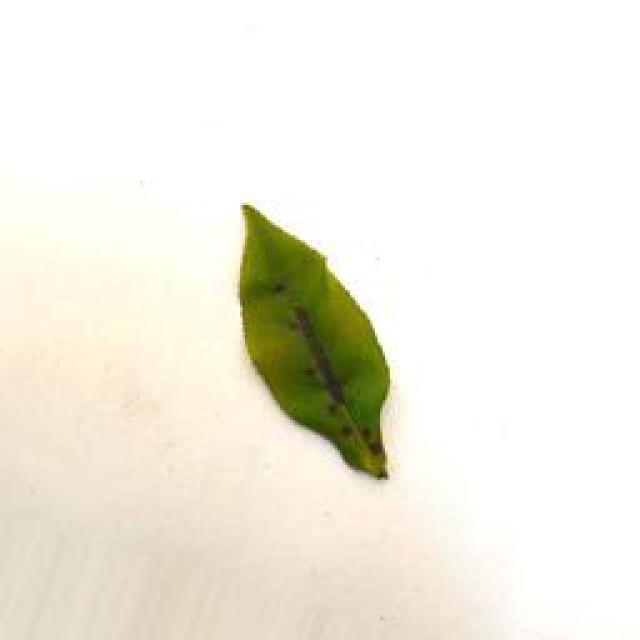Helopeltis: (226, 193, 398, 475)
